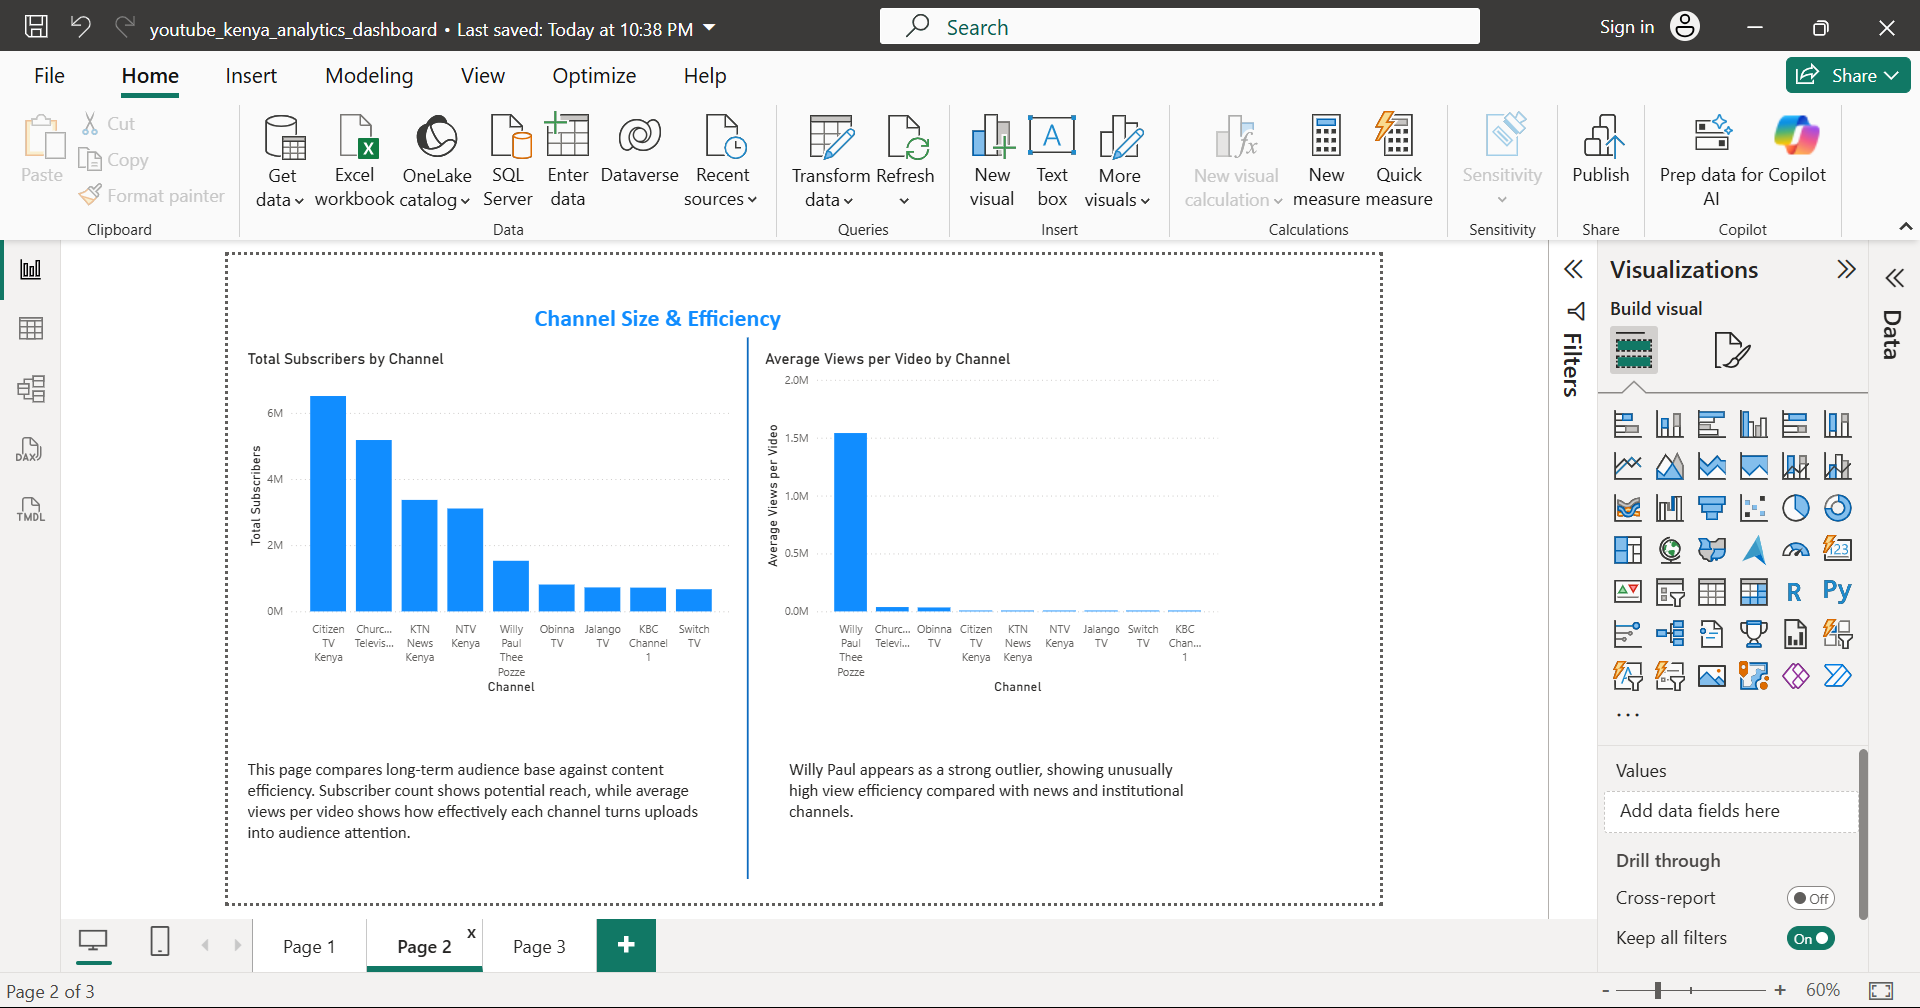

Layout of this report page (visuals, bound fields, positions):
{"tool":"powerbi","page":{"name":"Page 2","canvas":[1280,720],"ordinal":1},"visuals":[{"type":"clusteredColumnChart","fields":{"Category":["public dim_channel.channel_title"],"Y":["public fact_channel_stats.Total Subscribers"]},"box":[16.7,105,546.7,386.7],"z":0},{"type":"columnChart","fields":{"Category":["public dim_channel.channel_title"],"Y":["public fact_video_performance.Average Views per Video"]},"box":[591.7,105,513.3,386.7],"z":1000},{"type":"textbox","box":[315,48.3,325,43.3],"z":2000},{"type":"textbox","box":[16.7,518.3,530,175],"z":3000},{"type":"textbox","box":[618.3,518.3,463.3,175],"z":3001},{"type":"shape","box":[563.3,91.7,28.3,601.7],"z":3002}]}

Visuals, with their boxes on the page's 1280x720 design canvas (x1, y1, x2, y2). These are canvas units, not pixel positions in the 1920x1008 screenshot, which may show the page scaled, cropped or inside an application window:
clusteredColumnChart - public dim_channel.channel_title x public fact_channel_stats.Total Subscribers: {"left": 17, "top": 105, "right": 563, "bottom": 492}
columnChart - public dim_channel.channel_title x public fact_video_performance.Average Views per Video: {"left": 592, "top": 105, "right": 1105, "bottom": 492}
textbox: {"left": 315, "top": 48, "right": 640, "bottom": 92}
textbox: {"left": 17, "top": 518, "right": 547, "bottom": 693}
textbox: {"left": 618, "top": 518, "right": 1082, "bottom": 693}
shape: {"left": 563, "top": 92, "right": 592, "bottom": 693}
